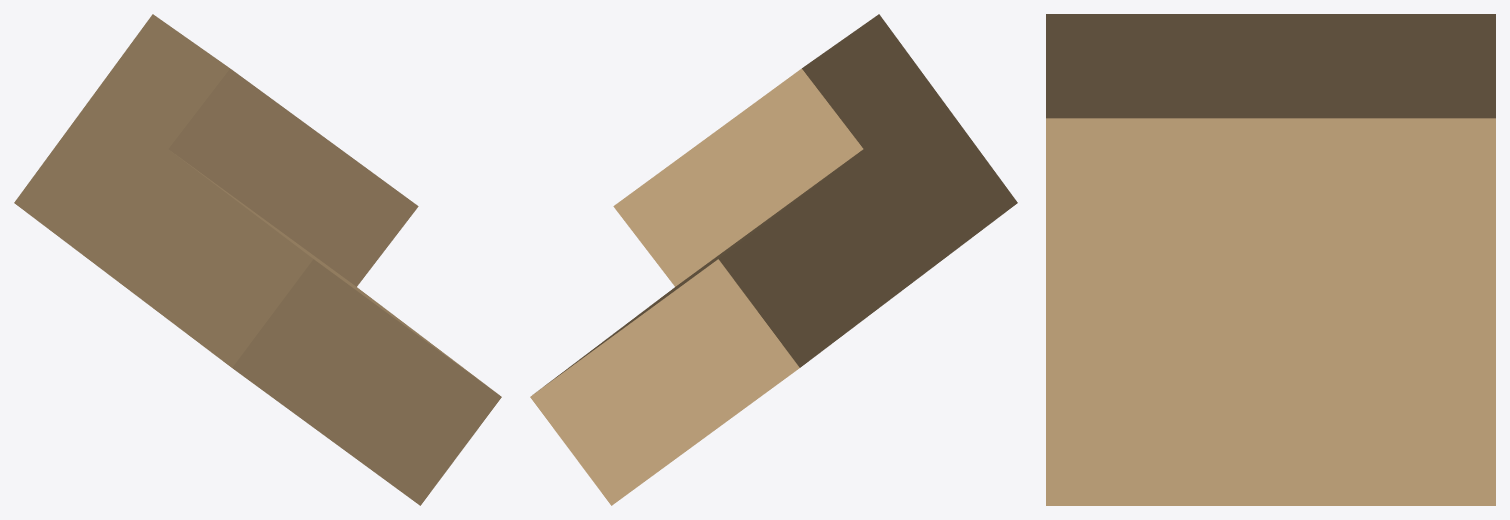
The picture shows the model from 3 angles, left to right: view 1: azimuth 30°, elevation 25°; view 2: azimuth 150°, elevation 25°; view 3: azimuth 270°, elevation 25°; orthographic projection. The views are drawn at different scales.
Visible parts, largest first — view 1: 0_0_1_3_1_1_2_2_0; view 2: 0_0_1_3_1_1_2_2_0; view 3: 0_0_1_3_1_1_2_2_0.
Boxes of the visible parts, box(x1,y1,x2,y2) form: 0_0_1_3_1_1_2_2_0: box(14, 14, 501, 505); 0_0_1_3_1_1_2_2_0: box(530, 14, 1017, 505); 0_0_1_3_1_1_2_2_0: box(1046, 14, 1495, 505).
Size of the model in its own units: 27.53 by 32.8 by 30.
